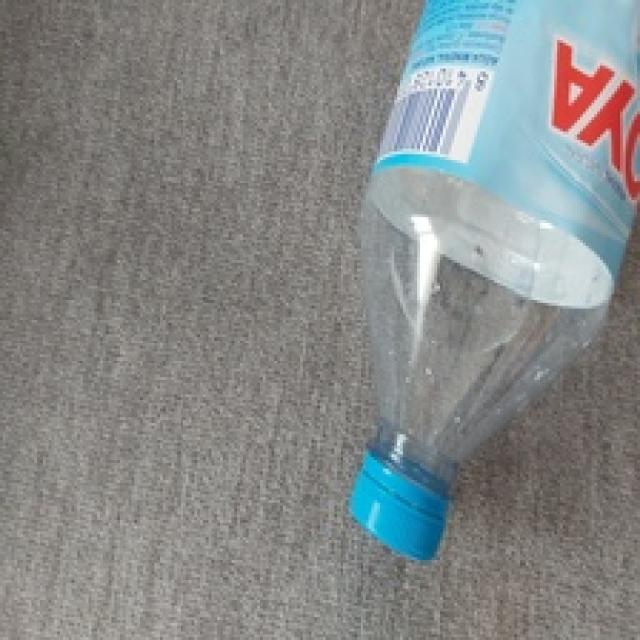good: (313, 0, 640, 570)
